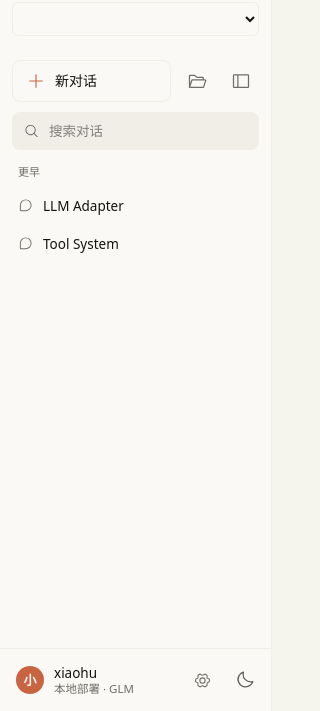
Test: SessionSidebar › 搜索过滤会话
The width and height of the screenshot is (320, 711).
Type "adapter" into the field with placeholder "搜索对话".
click(136, 131); type("adapter")  # box [12,112,259,150]
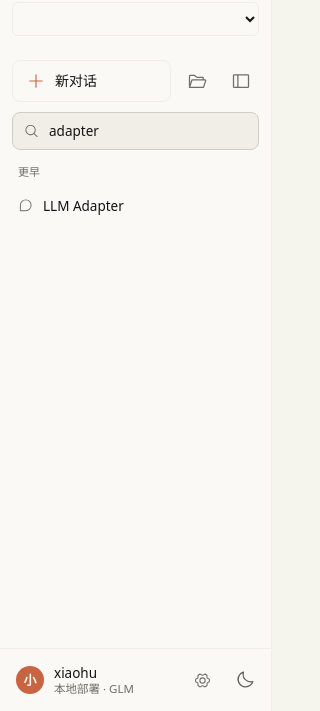
expect the text "LLM Adapter" is shown: met, box [43,197,124,215]
expect the text "Tool System" is gone: met
